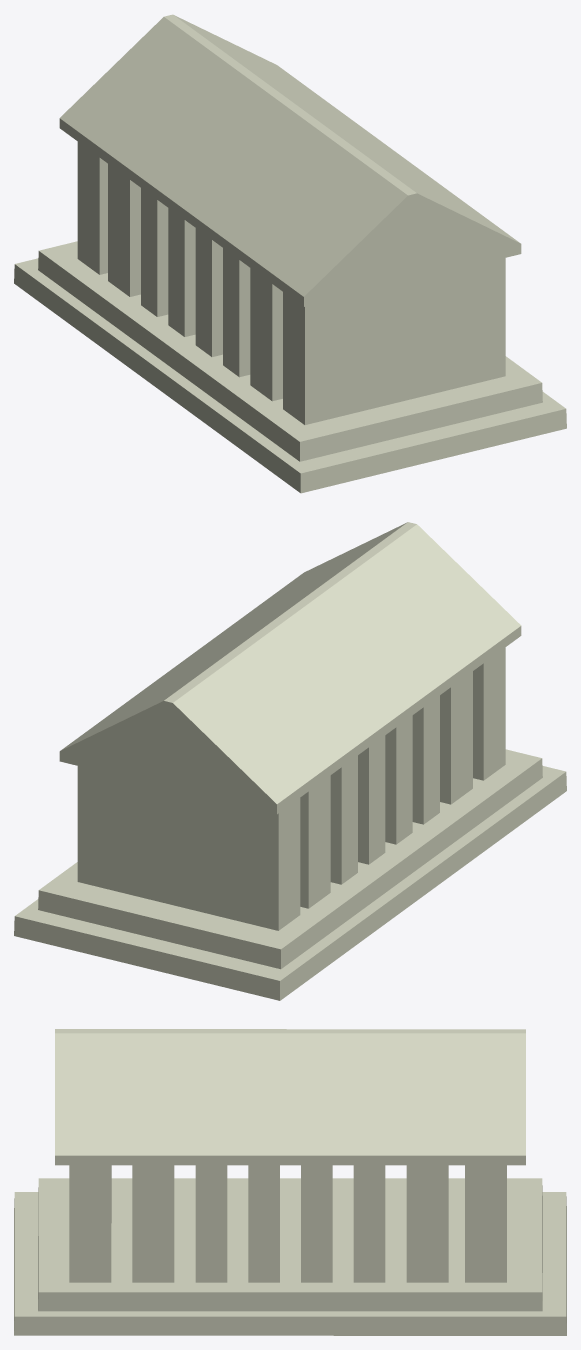
File: templeGenericLong.fbx
3 renders of one model, top to bottom at view 1: azimuth 30°, elevation 25°; view 2: azimuth 150°, elevation 25°; view 3: azimuth 270°, elevation 25°, orthographic. The views are drawn at different scales.
Parts seen in each view (by area): view 1: templeRoof_geo, templeColumns_geo, templeStairs_geo; view 2: templeRoof_geo, templeColumns_geo, templeStairs_geo; view 3: templeRoof_geo, templeStairs_geo, templeColumns_geo.
Part boxes in pixels (x1,y1,x2,y2): templeRoof_geo: (59,14,521,306); templeColumns_geo: (77,142,505,424); templeStairs_geo: (14,241,566,493); templeRoof_geo: (59,522,521,814); templeColumns_geo: (77,647,505,930); templeStairs_geo: (14,749,566,1000); templeRoof_geo: (55,1029,525,1165); templeStairs_geo: (14,1178,566,1335); templeColumns_geo: (69,1165,506,1282).
Bounding box in the file's own units: 6.59 × 5.94 × 12.3.
